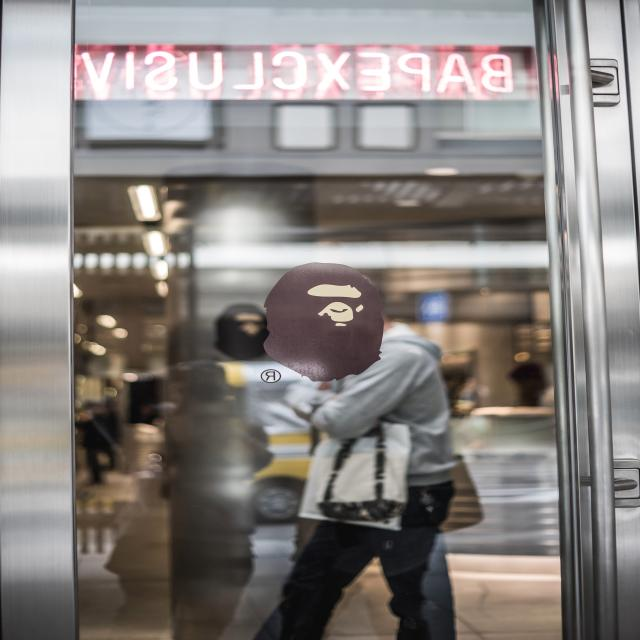adult: (262, 276, 462, 640)
